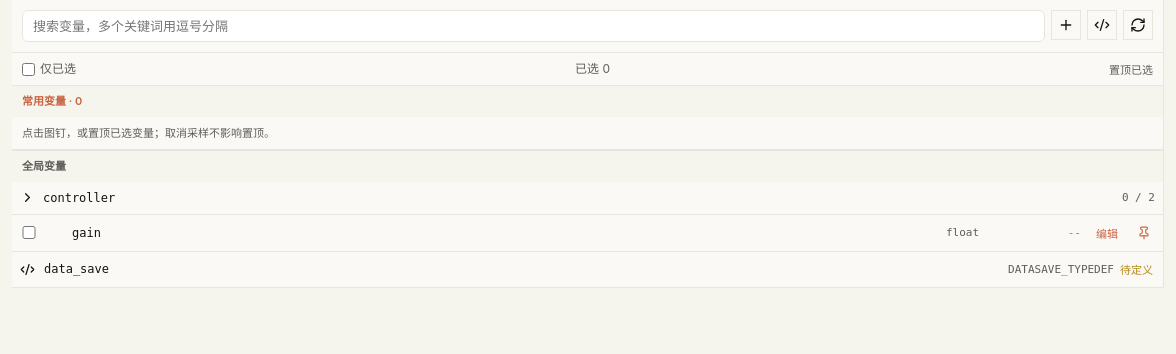
Test: SymbolVariablePanel › adds a manually entered member path through the shared SuperWatch API
Click the button with test id "show-manual-add": (1066, 25) [1051,10,1081,40]
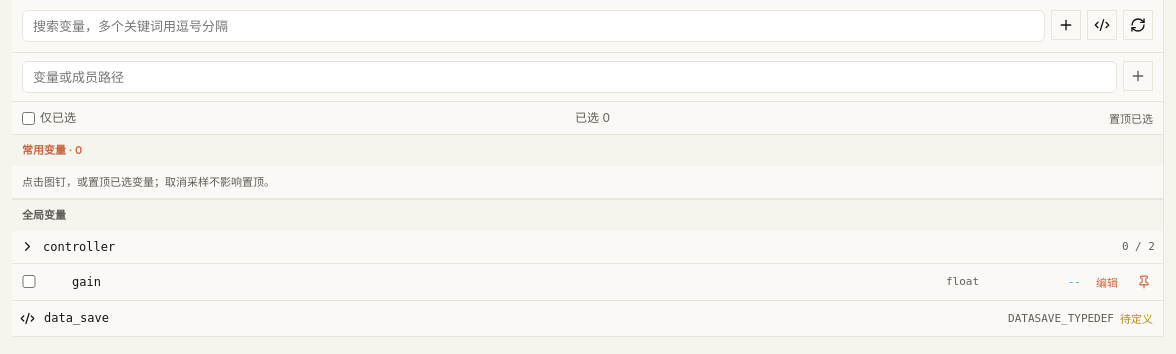
In the field with test id "manual-variable-path": (570, 77) [22,61,1117,93], type "data_save.odo"
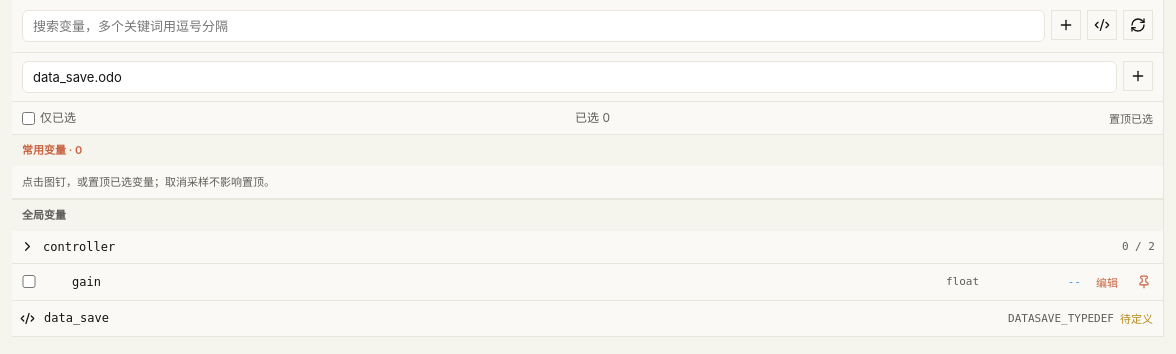
Submit the form from the button with test id "add-manual-variable", box [1123,61,1153,91]
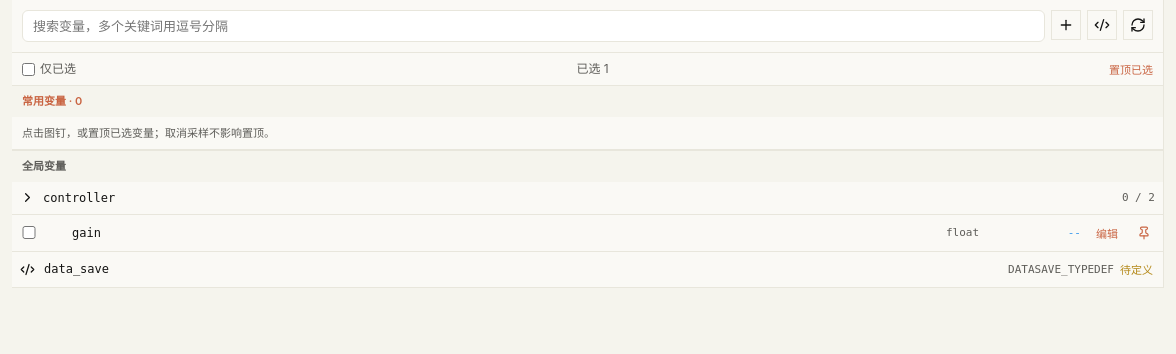
Check: the text "已选 1" is shown, box [576,60,609,78]
